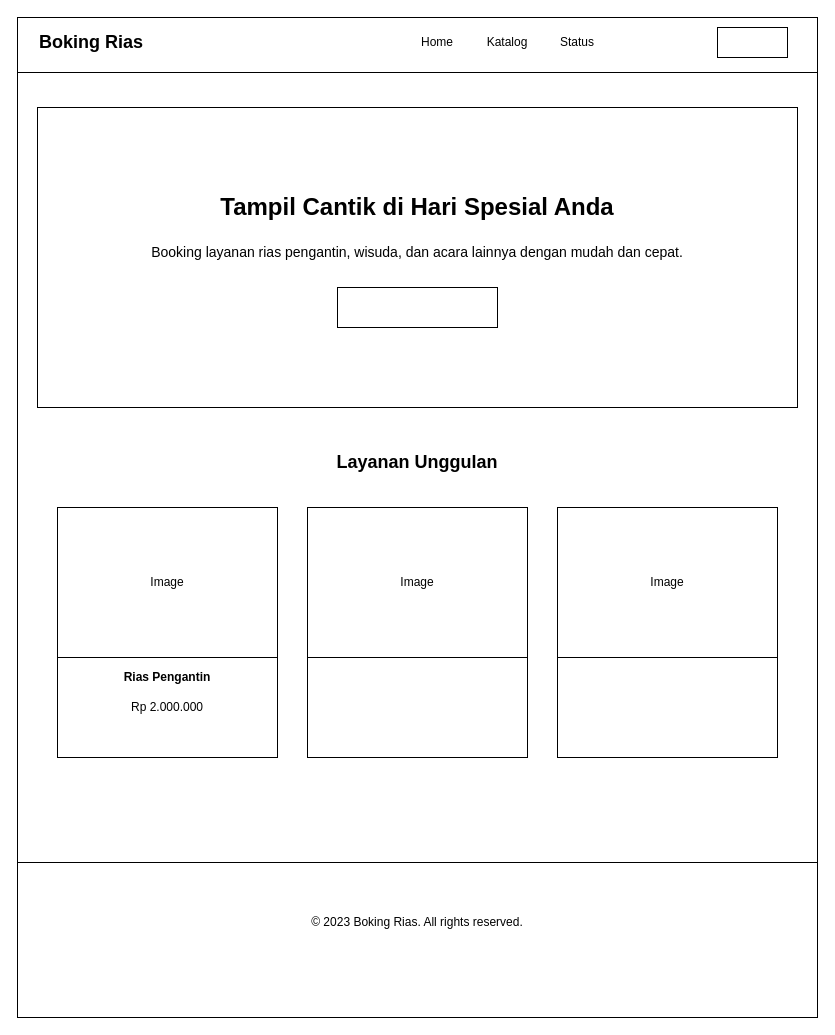
Image size: 835x1035. Some labels were removed from this diagram. The shapes that lost their labels are listed below. From the top down, each one's centre as x and y in pixels, then its label:
pixel 752 42: Login
pixel 417 307: Booking Sekarang
